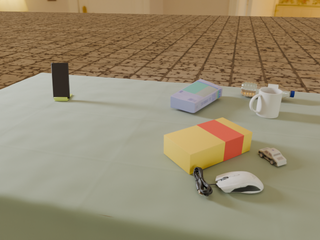book: (171, 79, 222, 113)
bottle: (240, 82, 295, 99)
box: (164, 118, 252, 174)
cup: (250, 87, 283, 118)
mouse: (213, 171, 263, 193)
phone: (51, 63, 70, 98)
toy_car: (258, 148, 286, 166)
